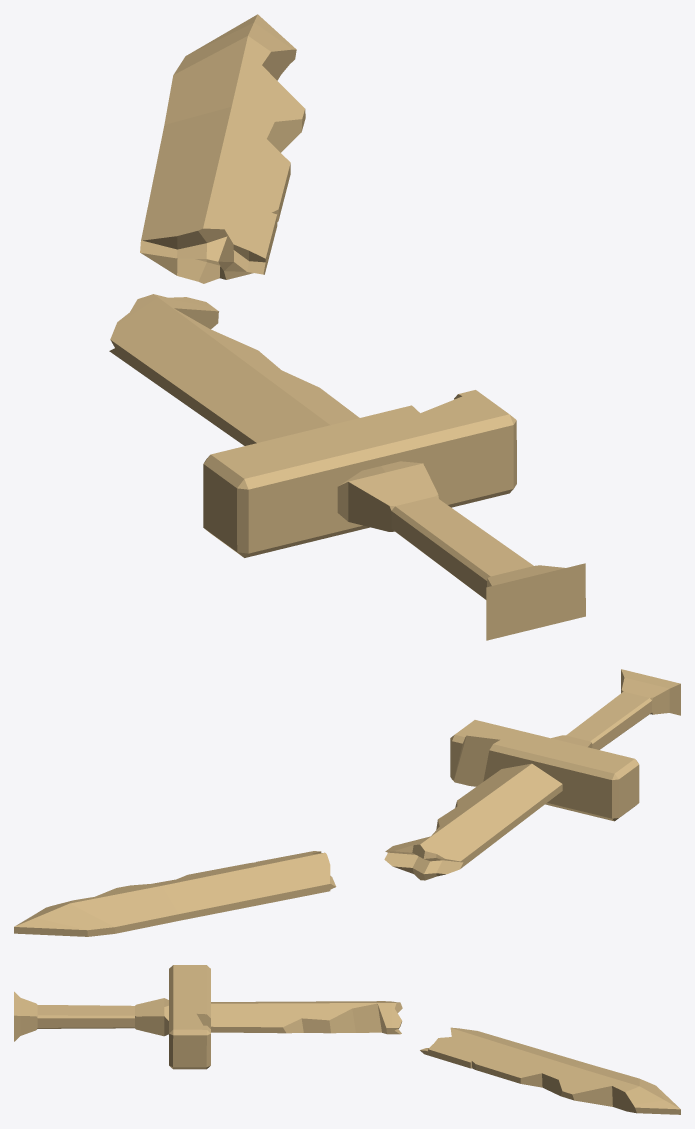
The model's file is Woodsword_broken.fbx.
3 views of the same model, one above another, from view 1: azimuth 30°, elevation 25°; view 2: azimuth 150°, elevation 25°; view 3: azimuth 270°, elevation 25° (orthographic). The views are drawn at different scales.
Parts seen in each view (by area): view 1: woodsword_broken; view 2: woodsword_broken; view 3: woodsword_broken.
Boxes of the visible parts, <box> form: woodsword_broken: <box>109,14,585,640</box>; woodsword_broken: <box>14,669,680,936</box>; woodsword_broken: <box>14,965,680,1114</box>.
Bounding box in the file's own units: 10.38 × 1.49 × 22.7.
